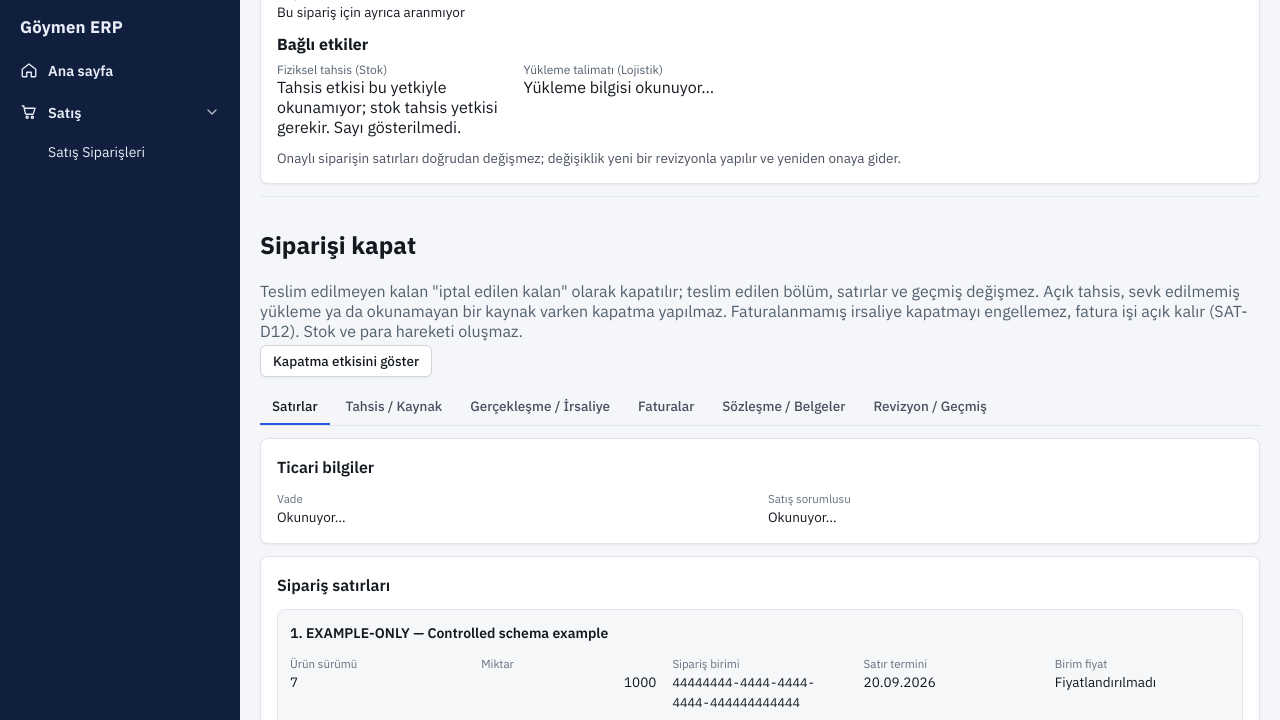
Scenario: S-04 force-close of an approved order (No 30, SAT-D12) › shows what blocks the closure and offers no command while an allocation or open loading exists
(page scrolled)
Click the button with test id "sales-force-close-open".
click(346, 361)  # box left=260, top=345, right=432, bottom=377
(page scrolled)
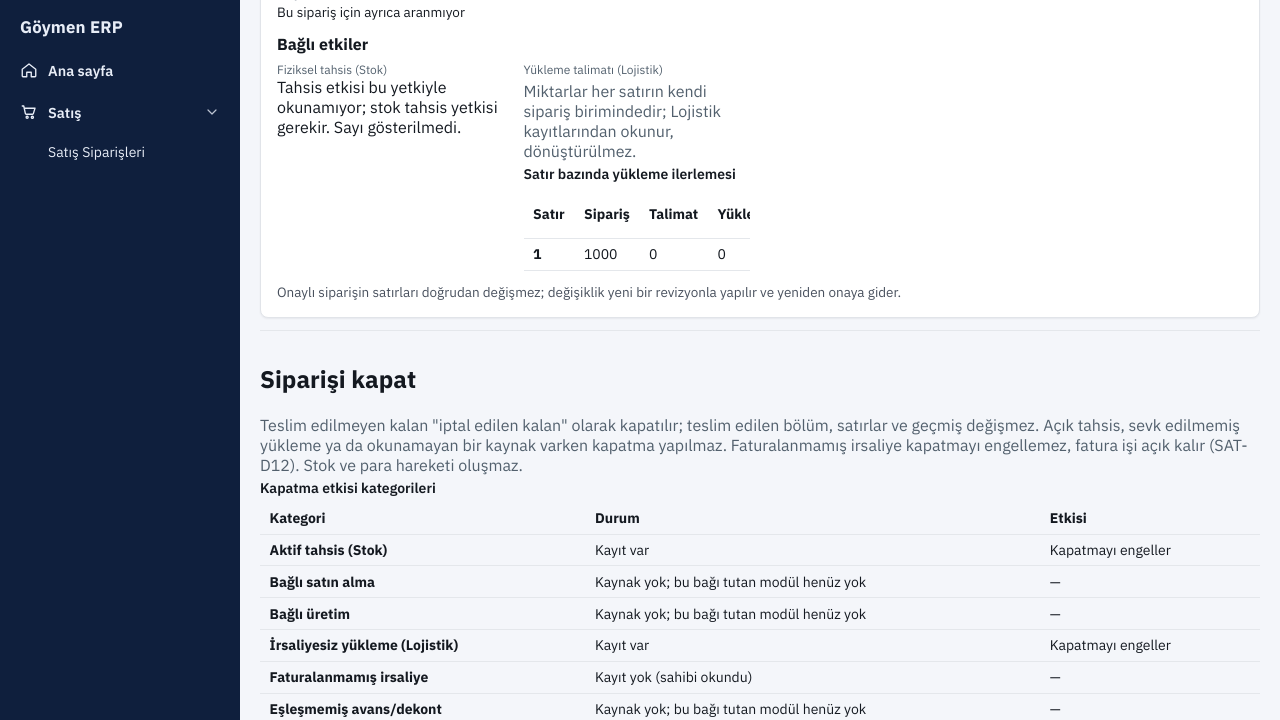
Check: the row with test id "sales-force-close-source-logistics.loading-without-dispatch-note" shows "Kapatmayı engeller", box left=1050, top=636, right=1171, bottom=654
